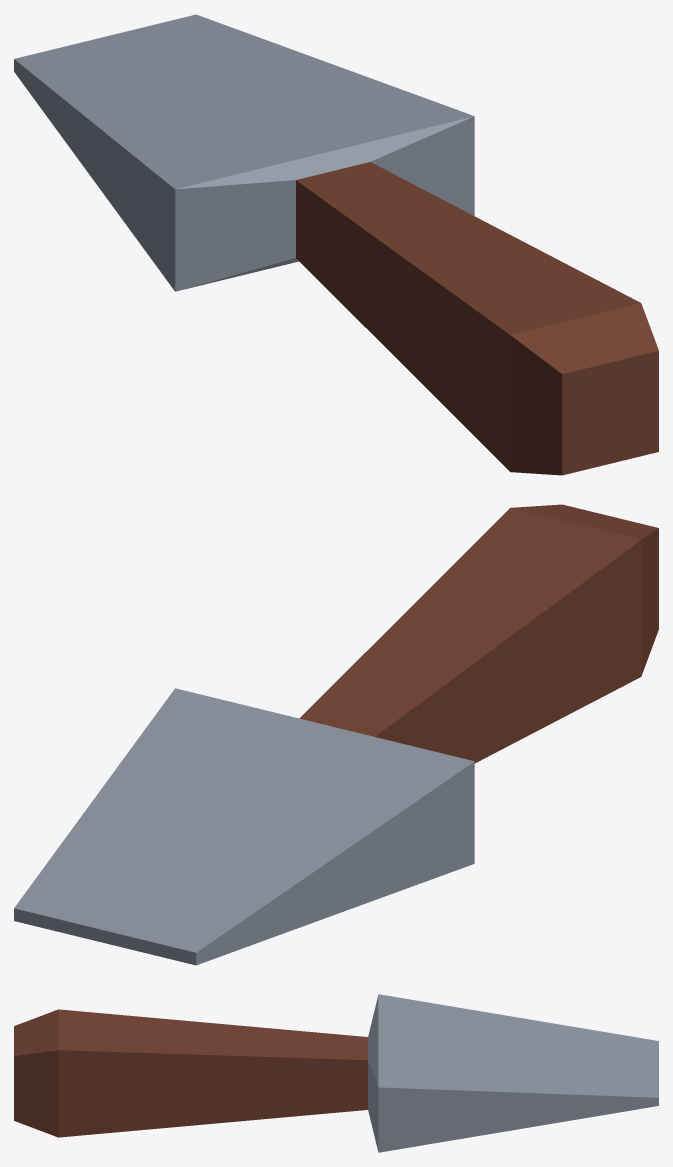
File: Trowel.fbx
The picture shows the model from 3 angles, top to bottom: view 1: azimuth 30°, elevation 25°; view 2: azimuth 150°, elevation 25°; view 3: azimuth 270°, elevation 25°; orthographic projection. The views are drawn at different scales.
Parts seen in each view (by area): view 1: Cube; view 2: Cube; view 3: Cube.
Boxes of the visible parts, x1=… form: Cube: x1=14, y1=14, x2=658, y2=475; Cube: x1=14, y1=504, x2=658, y2=965; Cube: x1=14, y1=994, x2=658, y2=1152.
Size of the model in its own units: 17.41 by 7.61 by 50.89.
